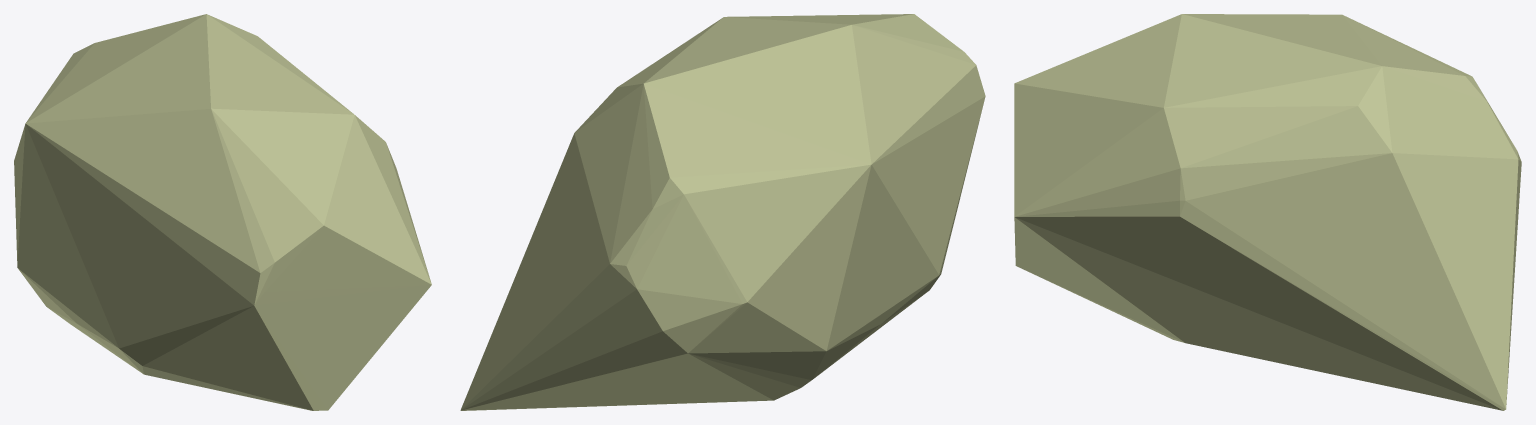
Rendered from paint_container_bottle_orange_a04.glb.
3 views of the same model, side by side, from view 1: azimuth 30°, elevation 25°; view 2: azimuth 150°, elevation 25°; view 3: azimuth 270°, elevation 25° (orthographic). The views are drawn at different scales.
Visible parts, largest first — view 1: geometry_0; view 2: geometry_0; view 3: geometry_0.
Part boxes in pixels (left/top/right/bottom): geometry_0: left=14, top=14, right=431, bottom=410; geometry_0: left=460, top=14, right=985, bottom=410; geometry_0: left=1014, top=14, right=1521, bottom=410.
Bounding box in the file's own units: 0.3317 × 0.3075 × 0.4776.
